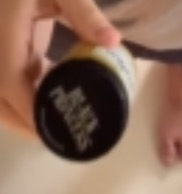blackprincess: (25, 28, 136, 163)
